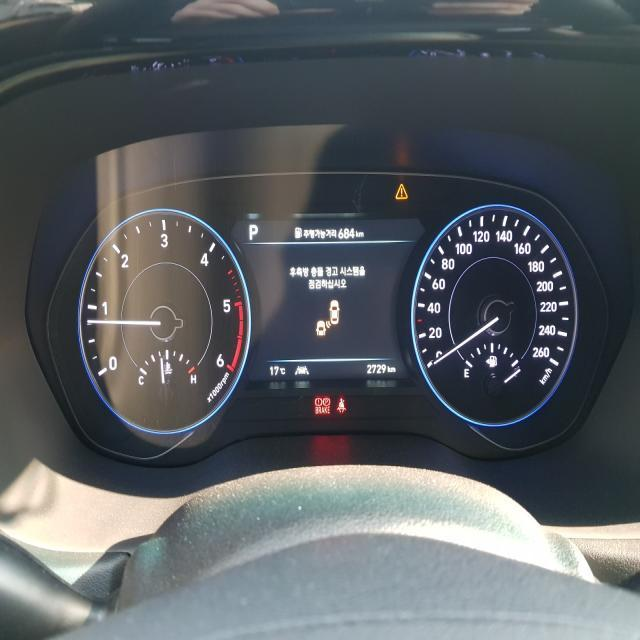Central Warning lamp: (394, 184, 408, 198)
LaneCenteringOff: (294, 364, 308, 374)
